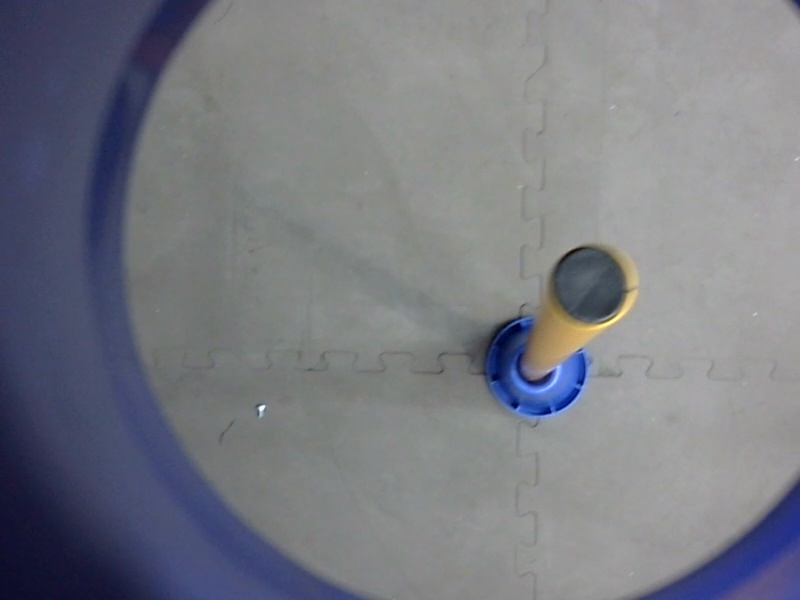tip: (537, 238, 643, 339)
